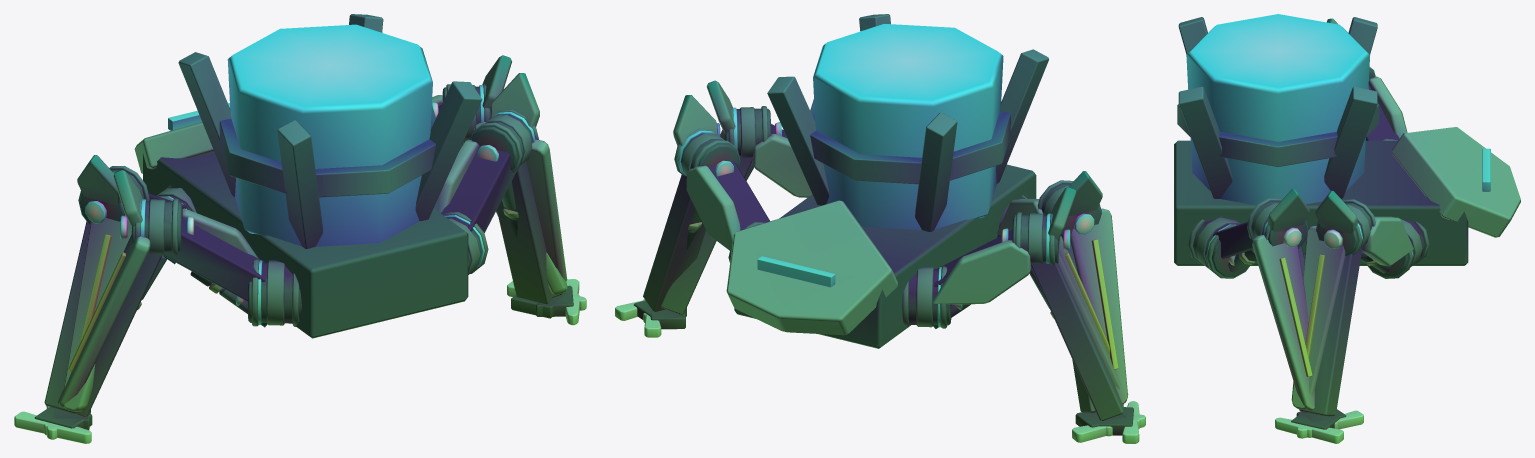
The model's file is bomber.glb.
3 renders of one model, left to right at view 1: azimuth 30°, elevation 25°; view 2: azimuth 150°, elevation 25°; view 3: azimuth 270°, elevation 25°, orthographic. The views are drawn at different scales.
Visible parts, largest first — view 1: Sac_0__emit_core, Body__dark, Body__gunmetal, Sac_0__armor_dark, Hip_3_Knee__gunmetal, Hip_2__dark, Hip_2_Knee__gunmetal, Hip_0_Knee__armor, Hip_2_Knee__armor, Hip_3__dark, Hip_3_Knee__armor, Hip_0_Knee__gunmetal (+17 smaller); view 2: Sac_0__emit_core, Body__armor, Body__gunmetal, Body__dark, Hip_0_Knee__gunmetal, Sac_0__armor_dark, Hip_1_Knee__gunmetal, Hip_0__armor, Hip_2_Knee__armor, Hip_3_Knee__gunmetal, Hip_1__armor, Hip_3__armor (+20 smaller); view 3: Sac_0__emit_core, Body__dark, Body__armor, Body__gunmetal, Hip_3_Knee__armor, Hip_1_Knee__gunmetal, Hip_1_Knee__armor, Sac_0__armor_dark, Hip_1__armor, Hip_3__dark, Hip_3__gunmetal, Hip_1_Knee__armor_sub (+13 smaller).
Part boxes in pixels (x1,y1,x2,y2): Sac_0__emit_core: (227,24,432,246); Body__dark: (143,152,468,338); Body__gunmetal: (178,14,482,248); Sac_0__armor_dark: (219,106,435,197); Hip_3_Knee__gunmetal: (470,109,552,304); Hip_2__dark: (162,218,301,327); Hip_2_Knee__gunmetal: (76,198,178,416); Hip_0_Knee__armor: (63,215,131,411); Hip_2_Knee__armor: (58,234,150,408); Hip_3__dark: (441,146,517,268); Hip_3_Knee__armor: (526,140,567,281); Hip_0_Knee__gunmetal: (44,166,149,413); Sac_0__emit_core: (813,24,1003,229); Body__armor: (726,200,897,335); Body__gunmetal: (767,14,1048,231); Body__dark: (734,164,1036,348); Hip_0_Knee__gunmetal: (1015,212,1123,421); Sac_0__armor_dark: (810,99,1010,184); Hip_1_Knee__gunmetal: (643,128,740,311); Hip_0__armor: (932,240,1030,304); Hip_2_Knee__armor: (1070,208,1127,403); Hip_3_Knee__gunmetal: (660,106,767,314); Hip_1__armor: (686,165,740,250); Hip_3__armor: (752,134,811,197); Sac_0__emit_core: (1186,14,1369,205); Body__dark: (1174,140,1468,265); Body__armor: (1392,127,1520,237); Body__gunmetal: (1178,17,1377,198); Hip_3_Knee__armor: (1252,235,1314,410); Hip_1_Knee__gunmetal: (1299,199,1375,416); Hip_1_Knee__armor: (1291,226,1345,409); Sac_0__armor_dark: (1177,104,1379,167); Hip_1__armor: (1362,216,1413,266); Hip_3__dark: (1193,219,1253,276); Hip_3__gunmetal: (1188,217,1250,278); Hip_1_Knee__armor_sub: (1315,190,1357,233).
Bounding box in the file's own units: 1.84 × 0.99 × 1.13.
